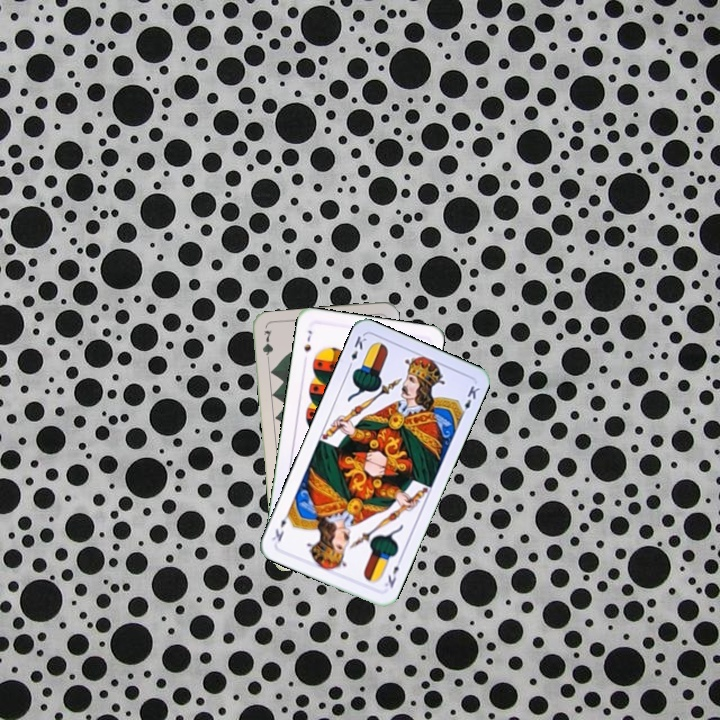EK: (344, 332, 369, 371), (381, 554, 404, 590)
G7: (258, 326, 275, 367)
S7: (300, 326, 314, 354)
